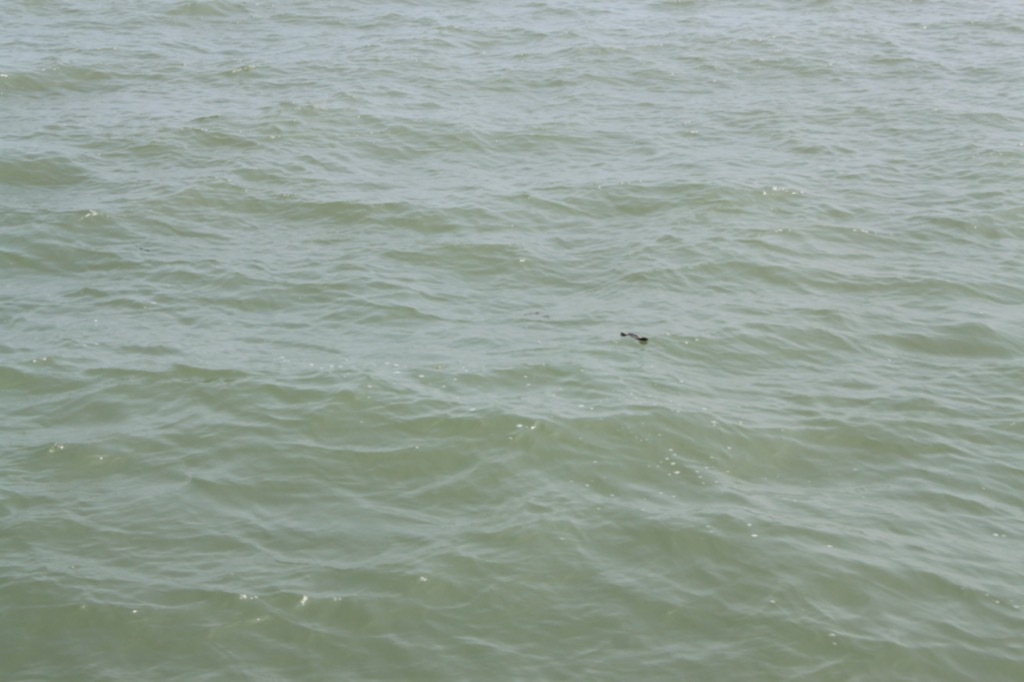organic: (613, 324, 657, 352)
